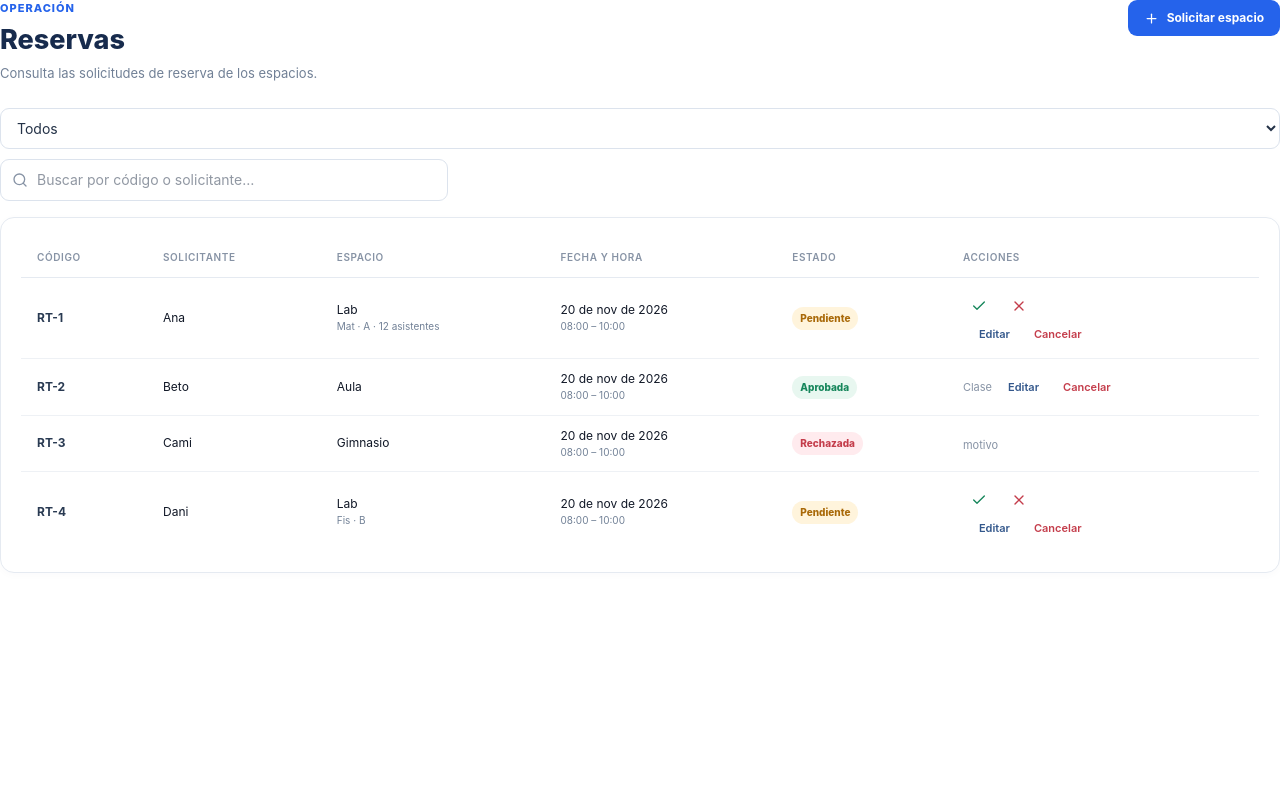
Test case: ReservationsPage · crear › espacio de laboratorio pide asignatura y grupo
Expected: the text "RT-1" is shown, [21,277,147,359]
Click the button "Solicitar espacio".
click(1204, 18)  # box [1128,0,1279,36]
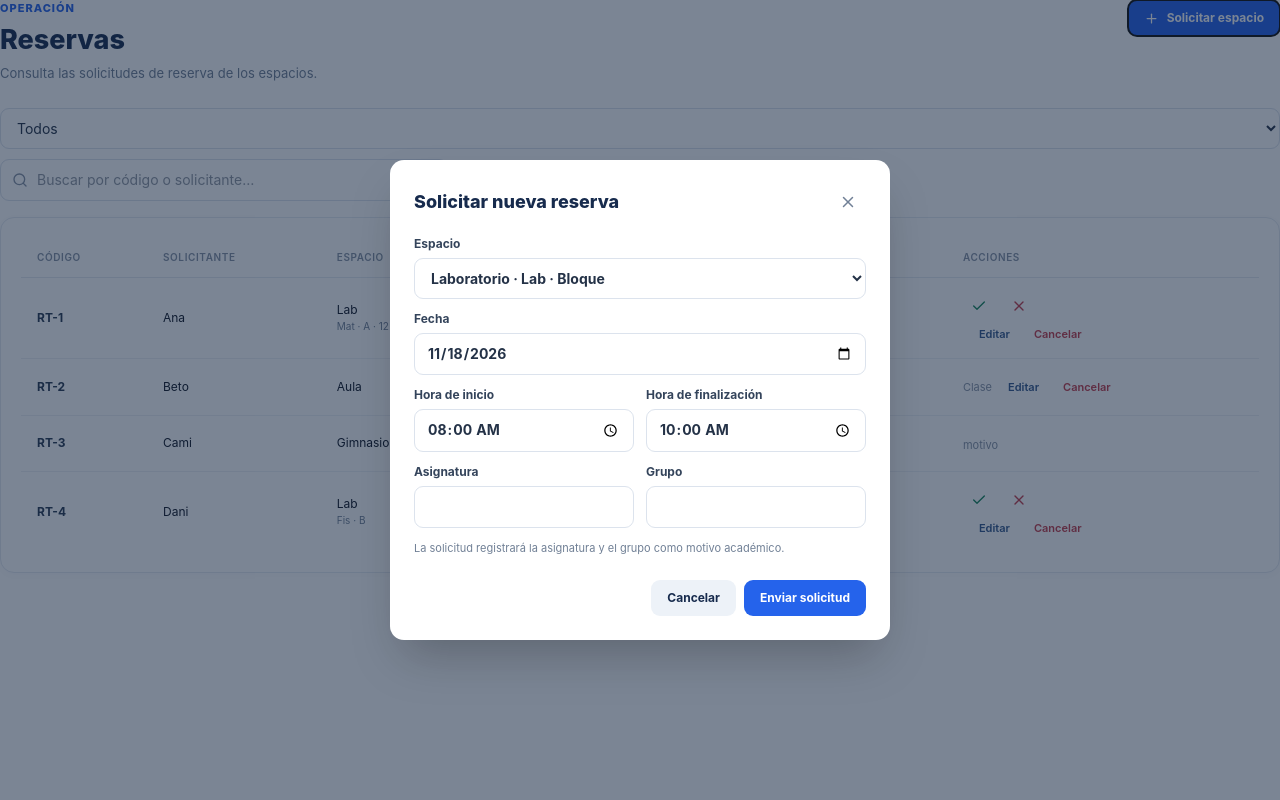
Result: the field labelled "Asignatura" is shown
Result: the text "registrará la asignatura" is shown at [414,541,784,555]
Type "Química" into the field labelled "Asignatura".
click(524, 507); type("Química")  # box [414,486,634,528]
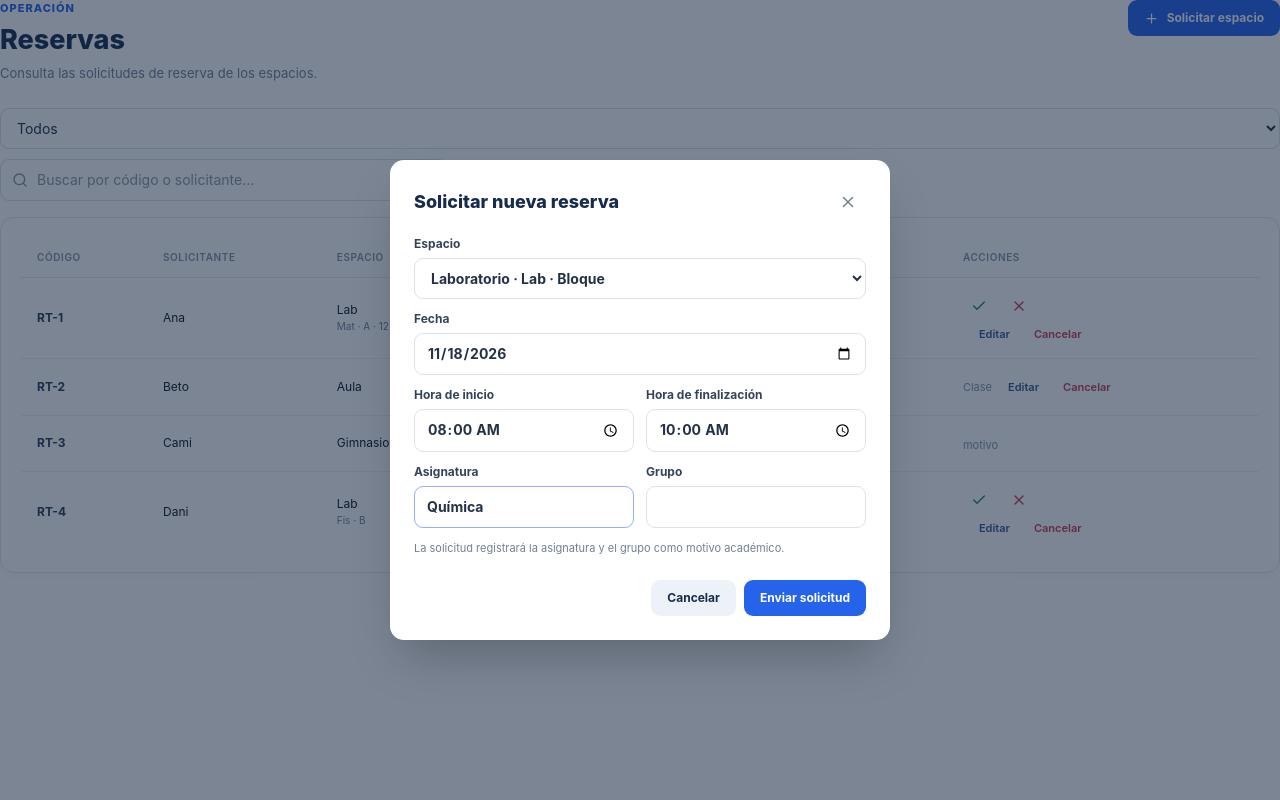
Type "G1" into the field labelled "Grupo".
click(756, 507); type("G1")  # box [646,486,866,528]
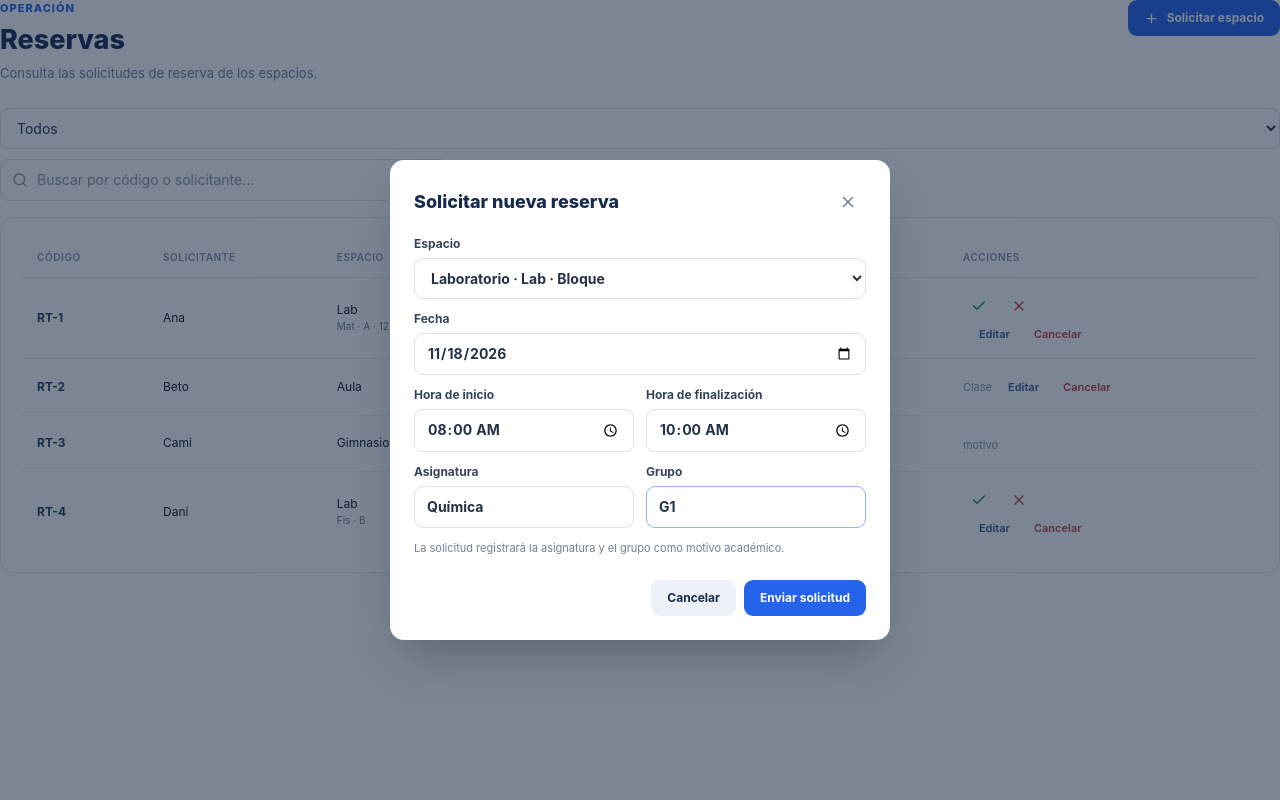
Click the button "Enviar solicitud".
click(805, 598)  # box [744,580,866,616]
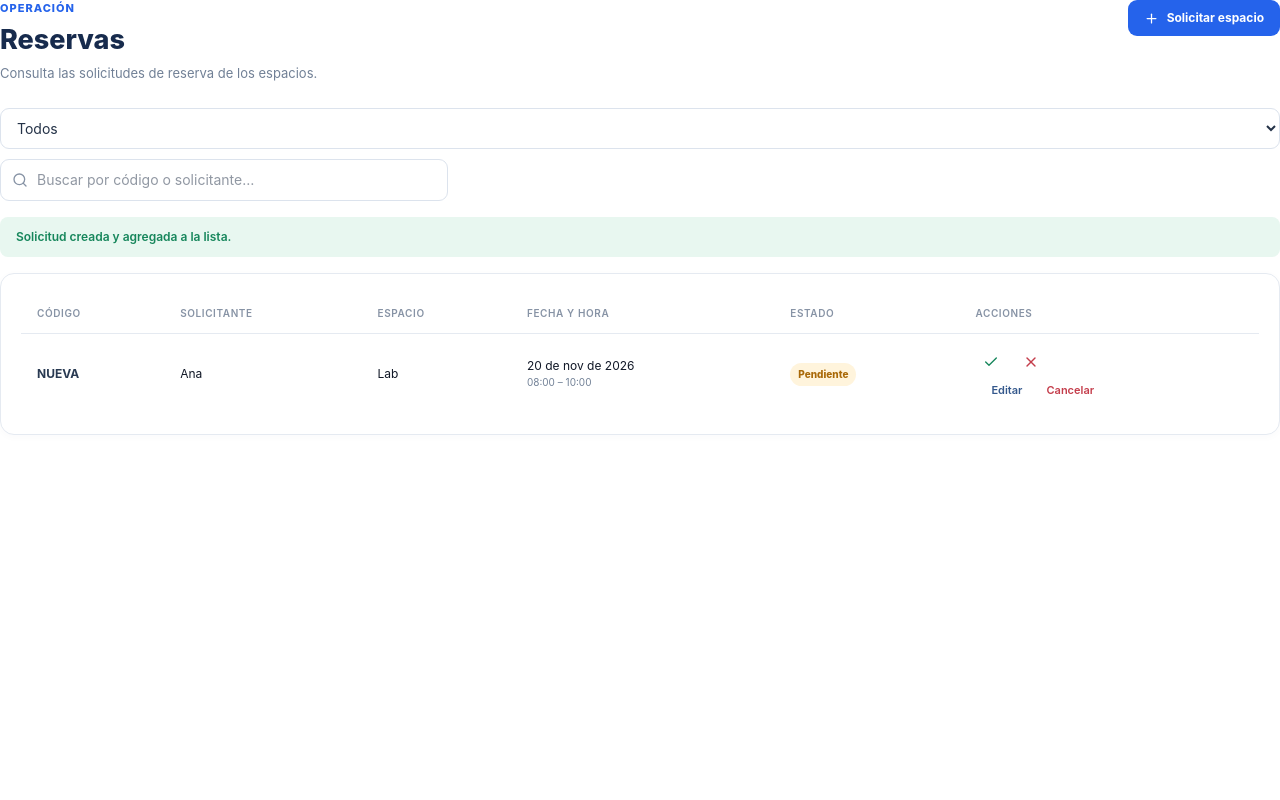
Result: the text "NUEVA" is shown at [21,333,164,414]
Result: the message reads "Solicitud creada y agregada a la lista." at [16,229,231,244]
Result: the dialog is gone
